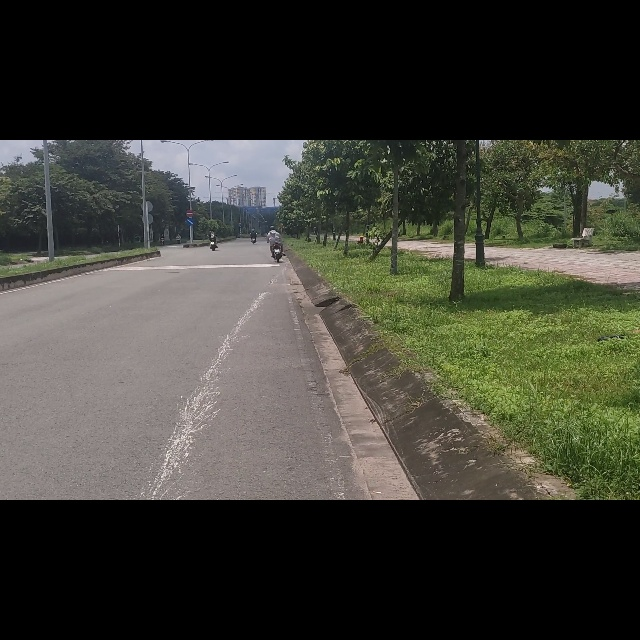bien_hieu_lenh: (186, 124, 194, 137), (186, 139, 194, 152)
